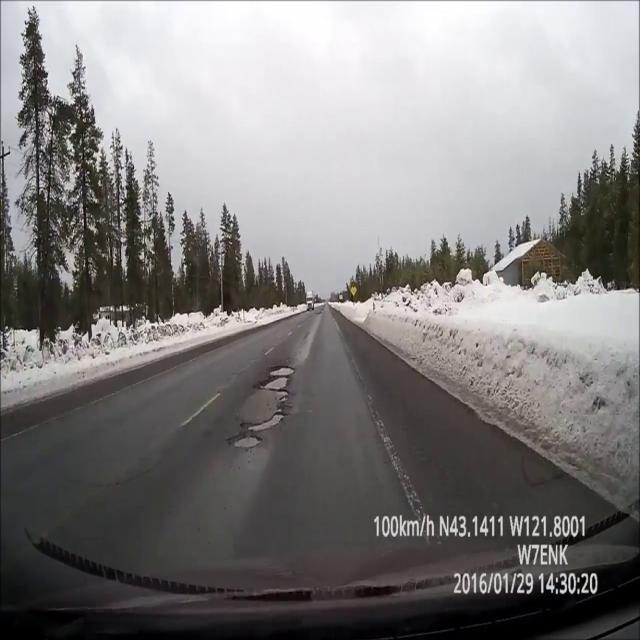pothole: (229, 431, 263, 452), (249, 412, 284, 432), (260, 377, 287, 391), (270, 367, 296, 377), (317, 311, 323, 315)
